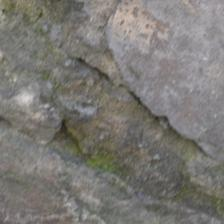Crack: (80, 56, 210, 157)
